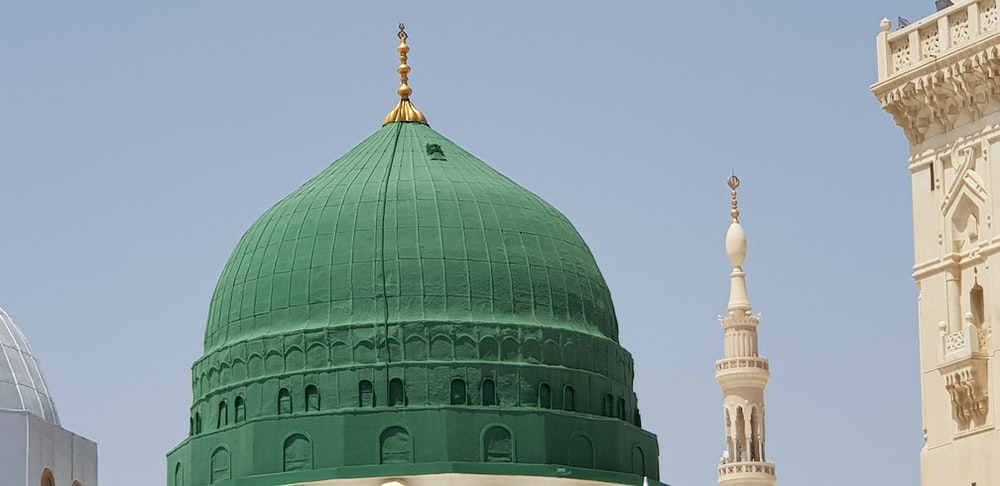Mosque: (111, 22, 819, 486)
